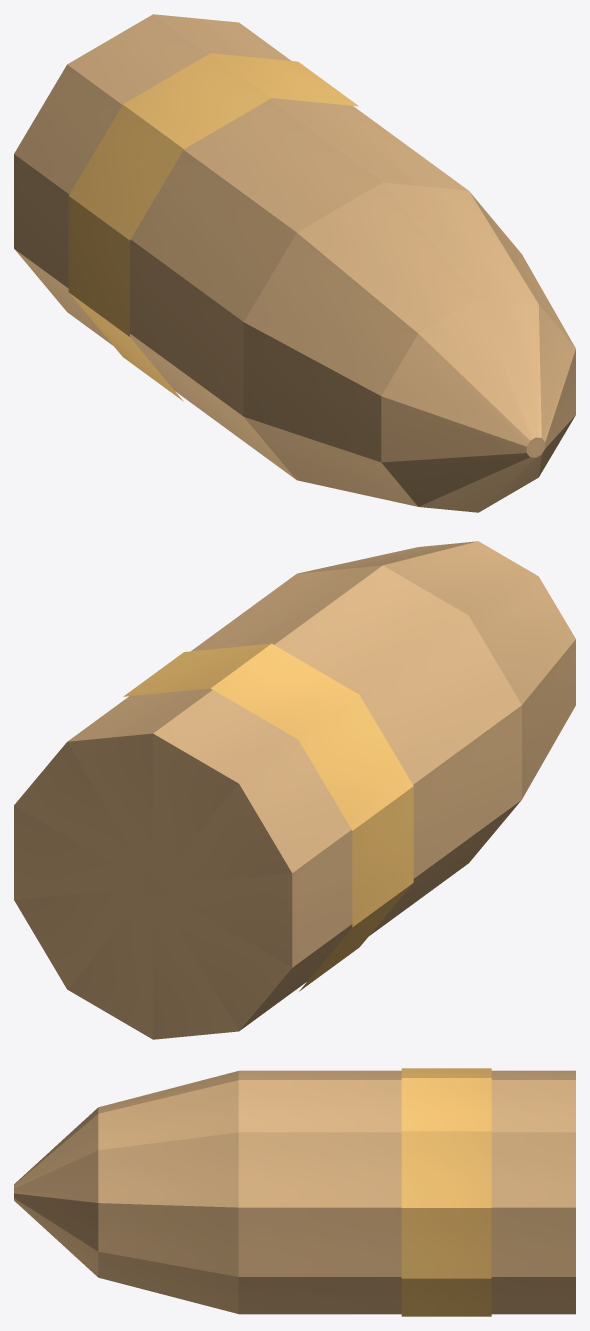
The model's file is shell_regular.glb.
3 views of the same model, one above another, from view 1: azimuth 30°, elevation 25°; view 2: azimuth 150°, elevation 25°; view 3: azimuth 270°, elevation 25° (orthographic). The views are drawn at different scales.
Visible parts, largest first — view 1: shell; view 2: shell; view 3: shell.
Part boxes in pixels (left/top/right/bottom): shell: left=14, top=14, right=575, bottom=512; shell: left=14, top=541, right=575, bottom=1039; shell: left=14, top=1068, right=575, bottom=1316.
Size of the model in its own units: 0.1455 by 0.153 by 0.34.
1 material, 1 textured.
